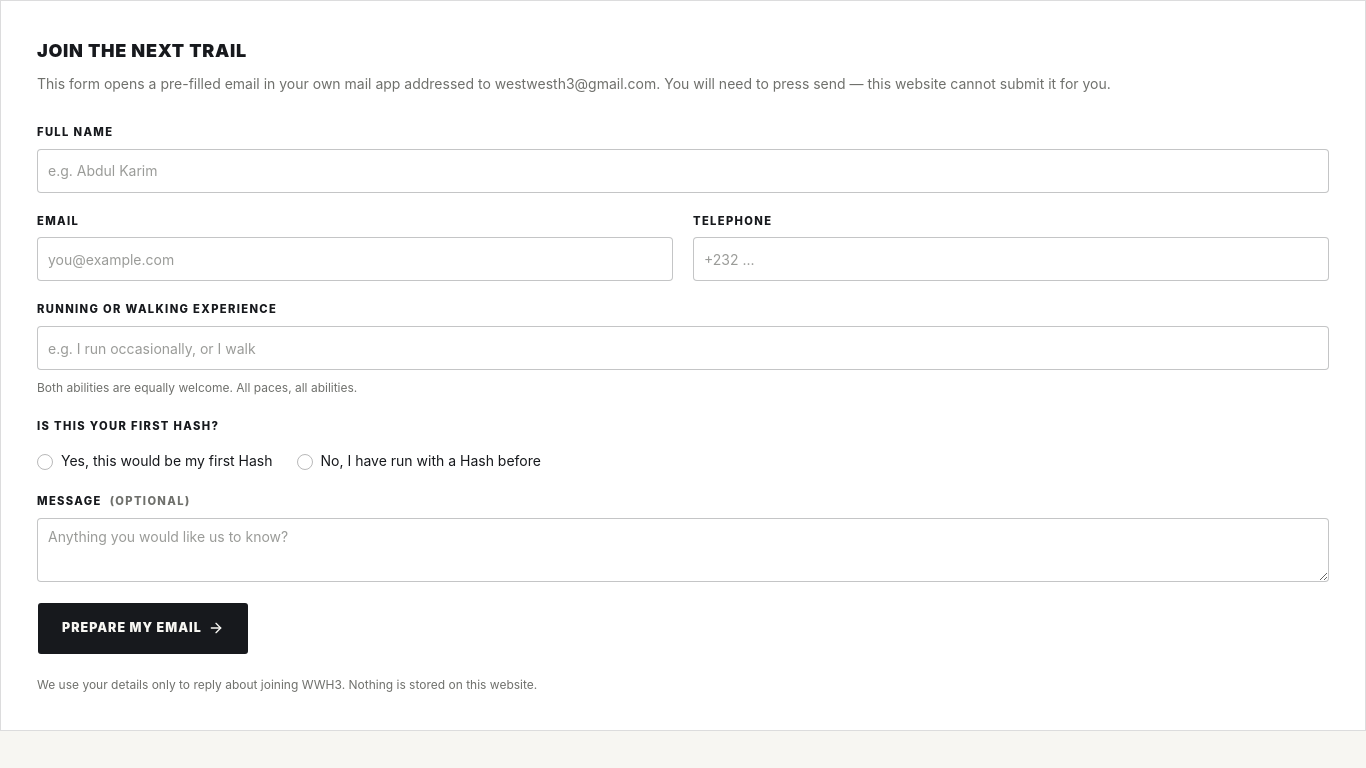
Test: probe › rejects a bad telephone
Type "Alpha Beta" into the field labelled "Full name".
click(683, 170); type("Alpha Beta")  # box x1=37 y1=148 x2=1329 y2=192
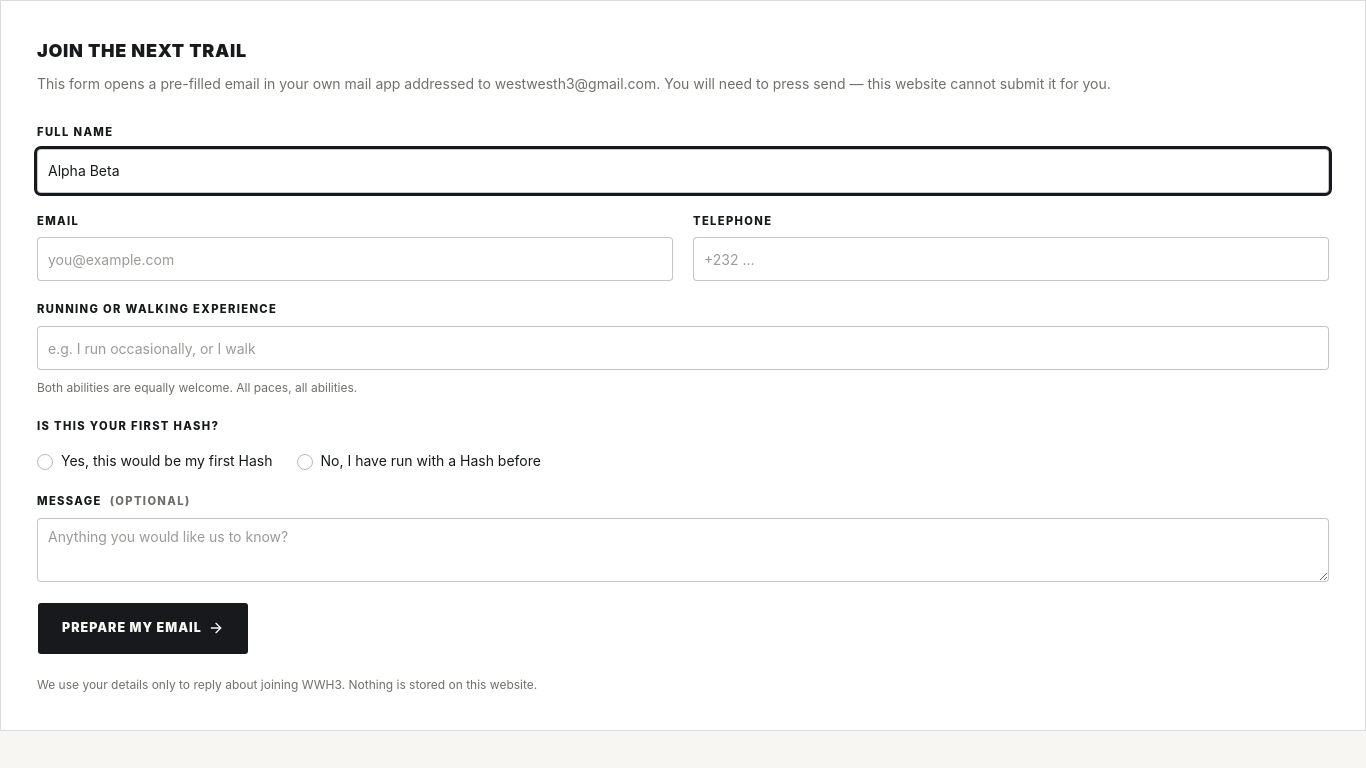
Type "alpha@example.com" into the field labelled "Email".
click(355, 259); type("alpha@example.com")  # box x1=37 y1=237 x2=673 y2=281
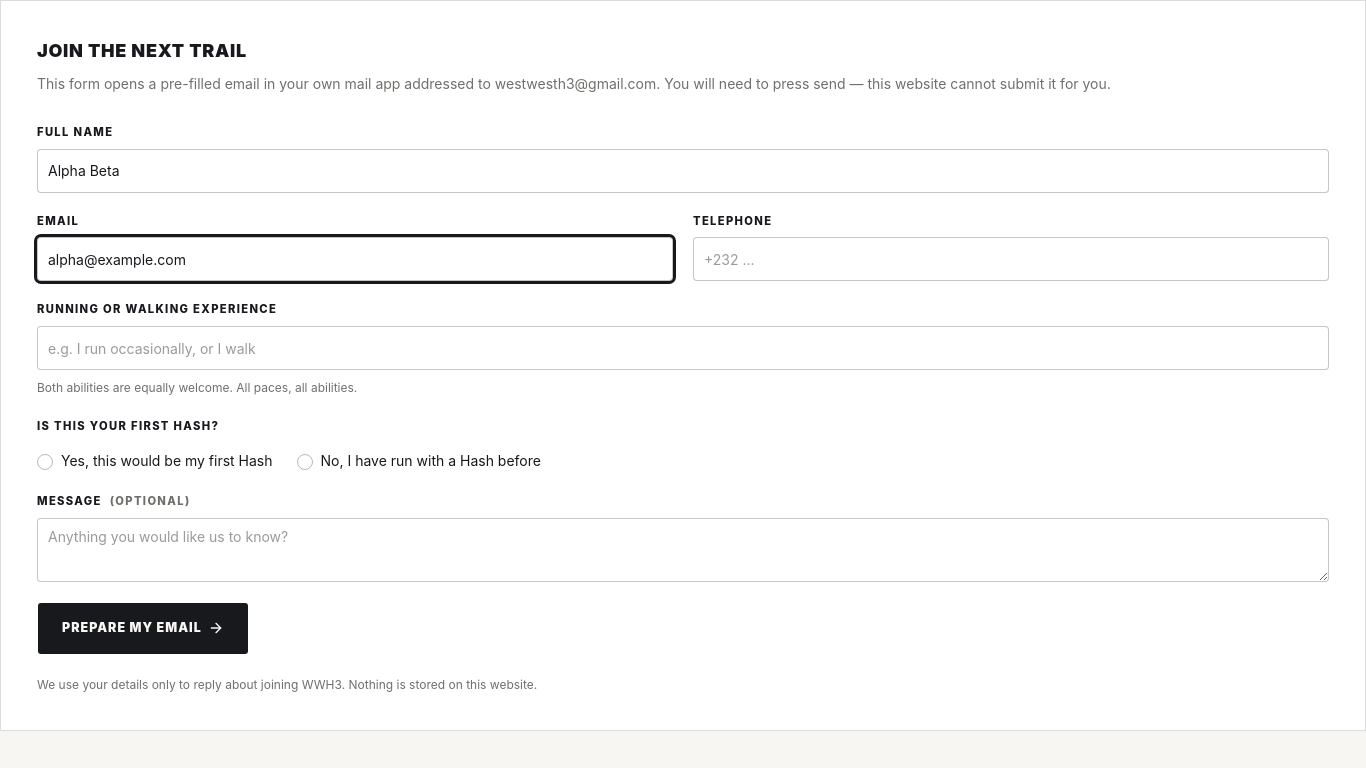
Type "abc" into the field labelled "Telephone".
click(1011, 259); type("abc")  # box x1=693 y1=237 x2=1329 y2=281
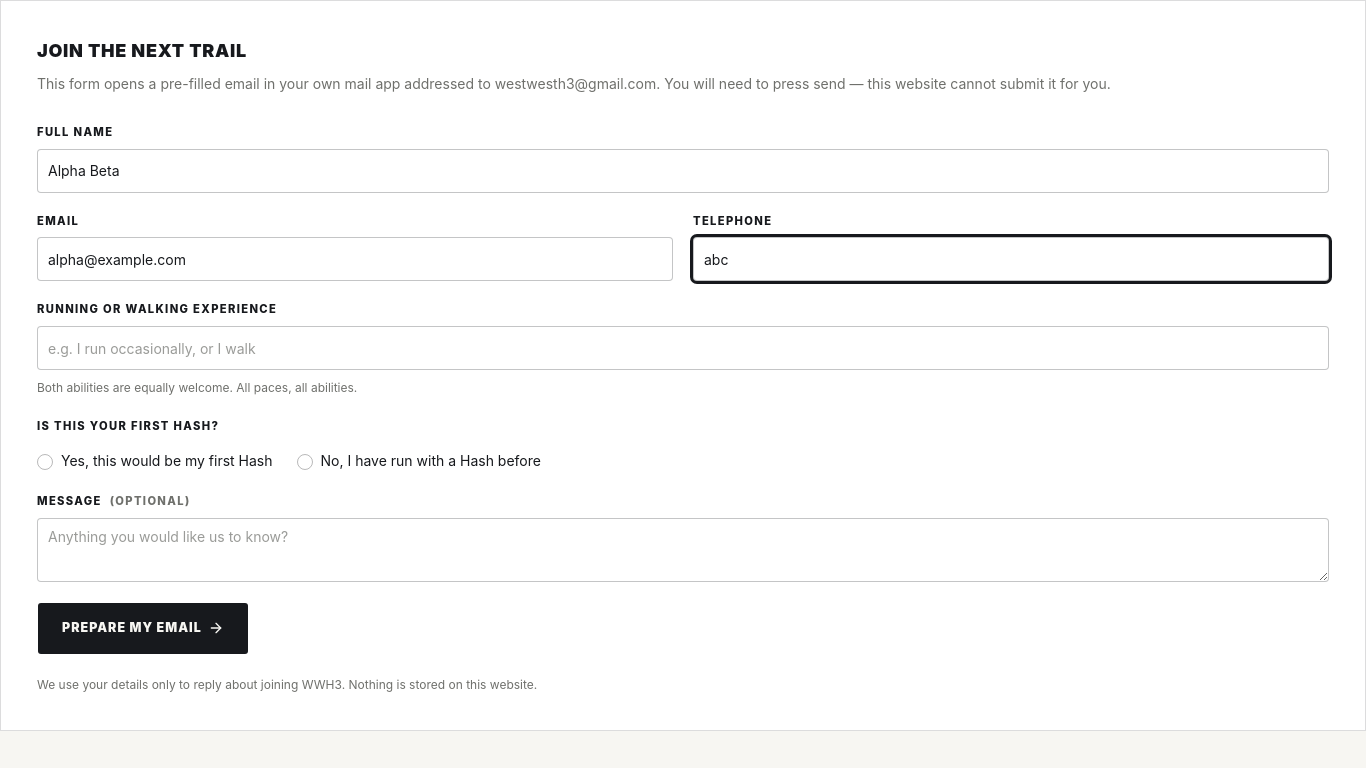
Type "I walk." into the field labelled "Running or walking experience".
click(683, 348); type("I walk.")  # box x1=37 y1=326 x2=1329 y2=370
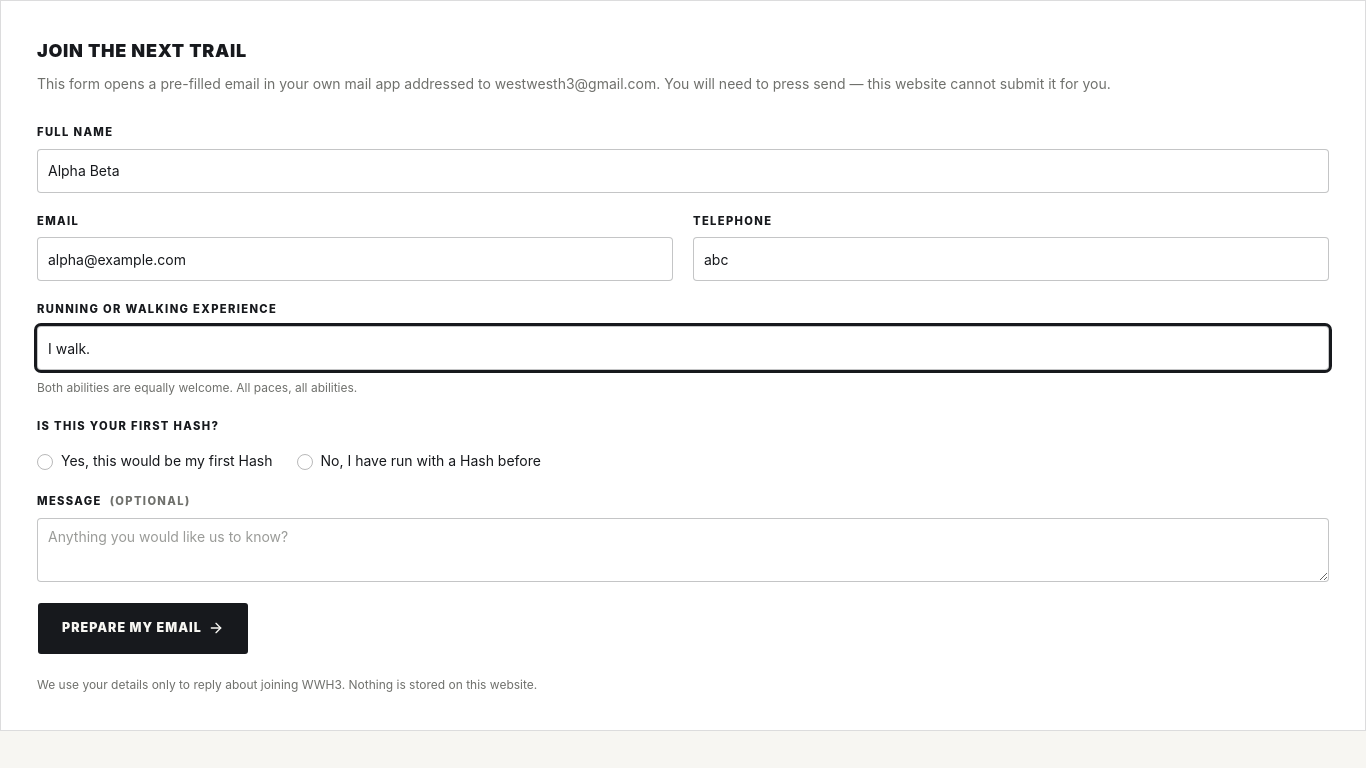
Click the radio button named "yes, this would be my first hash" next to "Yes, this would be my first Hash".
click(45, 462)  # box x1=37 y1=454 x2=53 y2=470
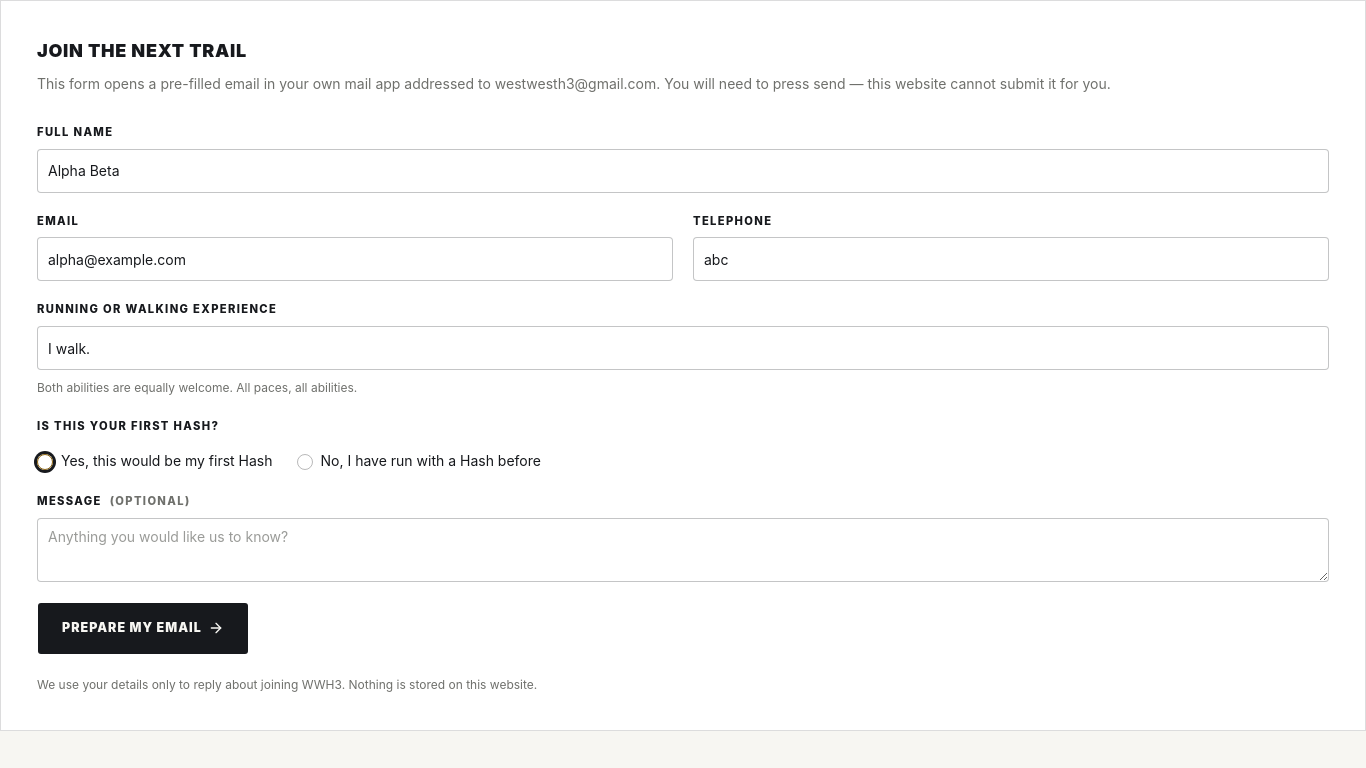
Click the button "Prepare my email".
click(143, 628)  # box x1=37 y1=602 x2=249 y2=655
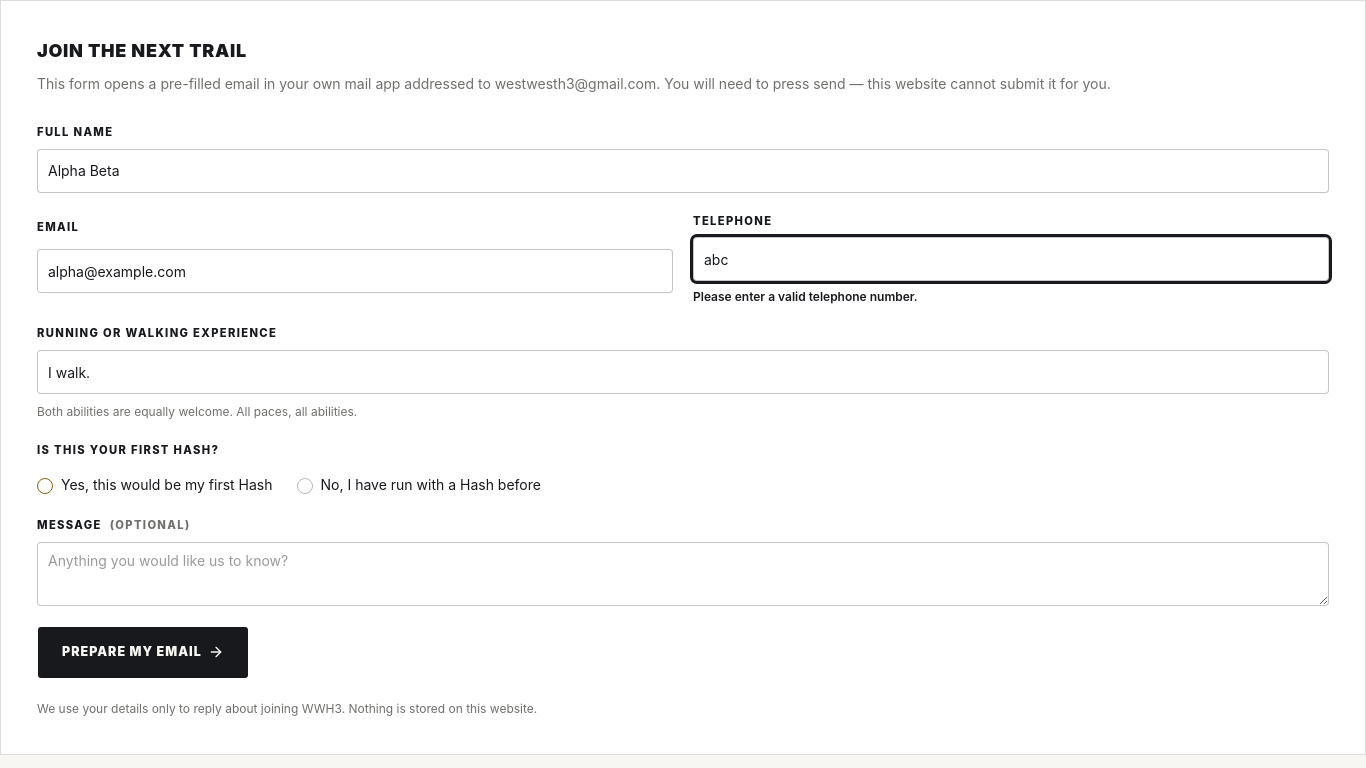
Check: the text "Please enter a valid telephone number." is shown, box x1=693 y1=289 x2=918 y2=304
